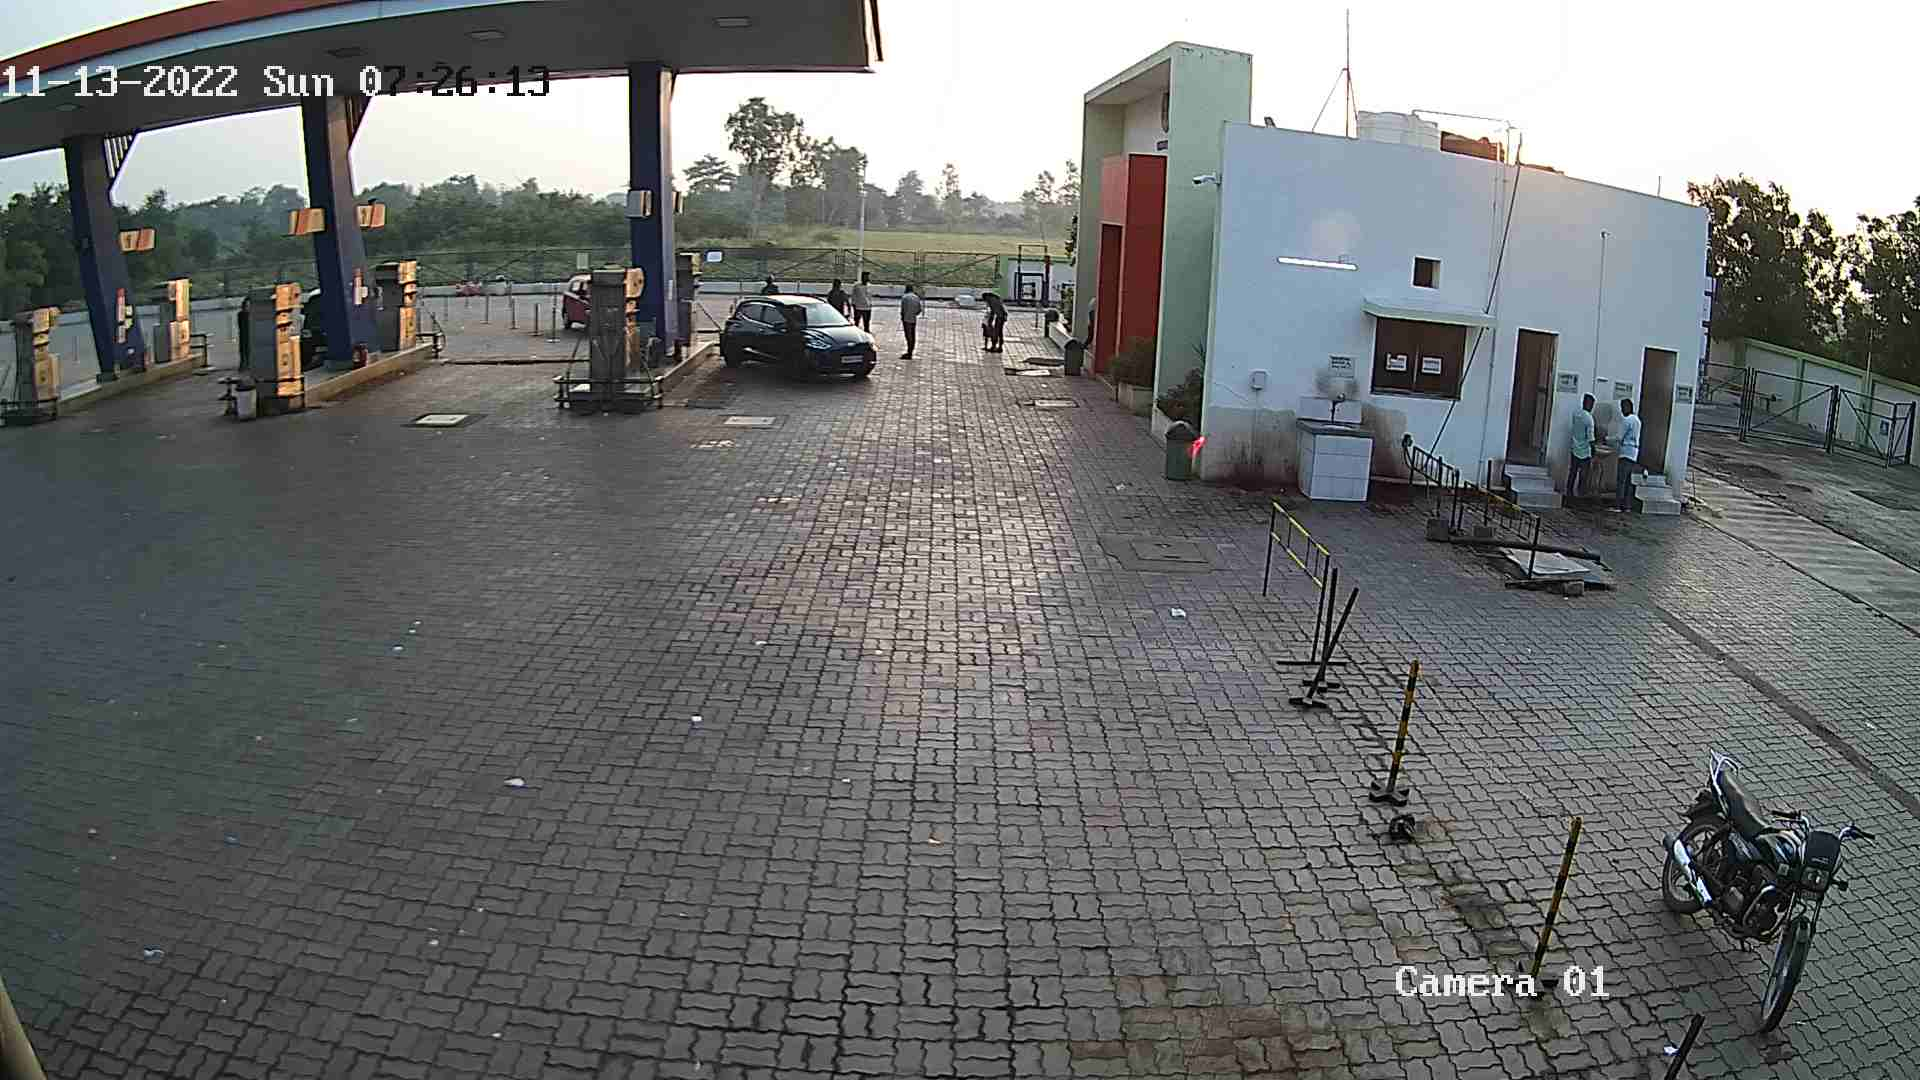Bike: (1622, 736, 1873, 1050)
Car: (715, 285, 882, 386), (289, 274, 338, 378), (554, 258, 603, 339)
